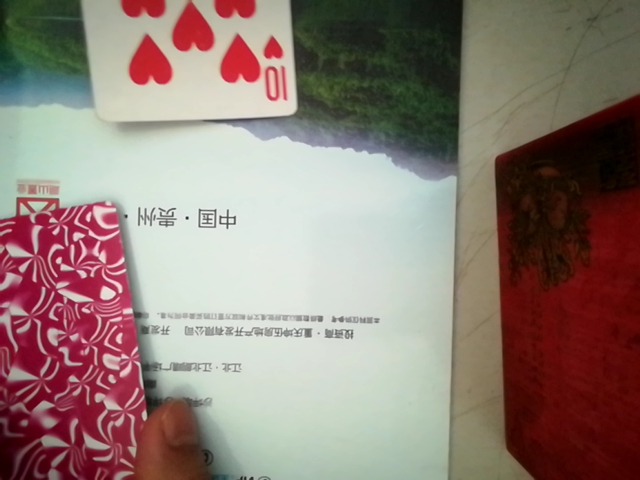hx 10: (78, 0, 305, 125)
